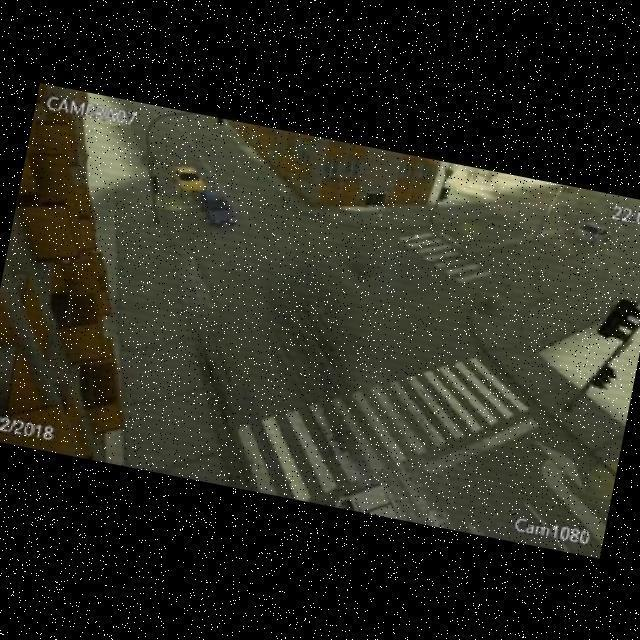accident: (155, 161, 251, 239)
